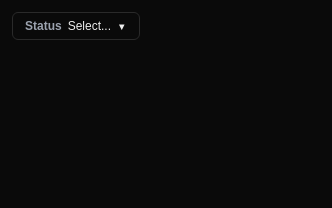
Scenario: FilterDropdown › Dropdown Menu › should show menu when button is clicked
The image size is (332, 208).
Click the button at (76, 26), box [12,12,140,40]
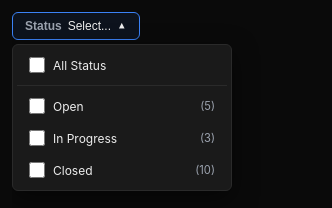
Check: the text "All Status" is shown, box [53,58,106,72]
Check: the text "Open" is shown, box [53,98,84,114]
Check: the text "In Progress" is shown, box [53,130,117,146]
